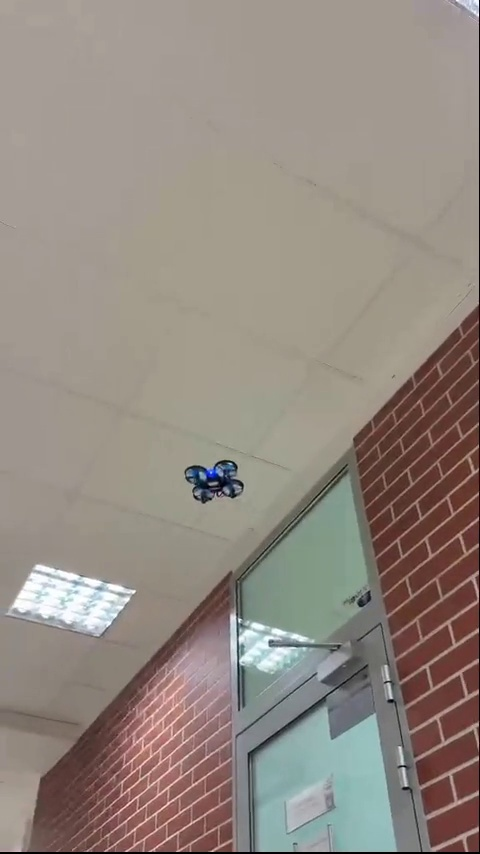drone: (186, 460, 243, 503)
